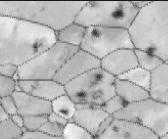good_void: (89, 72, 105, 89), (91, 88, 104, 100), (90, 29, 103, 39), (110, 9, 124, 18), (29, 82, 41, 91), (145, 47, 157, 56), (87, 1, 98, 10), (76, 90, 86, 98), (33, 42, 40, 53), (89, 101, 96, 110), (122, 97, 128, 107), (101, 99, 107, 107), (59, 109, 68, 114), (110, 81, 116, 86), (137, 118, 143, 123), (113, 127, 117, 131)
